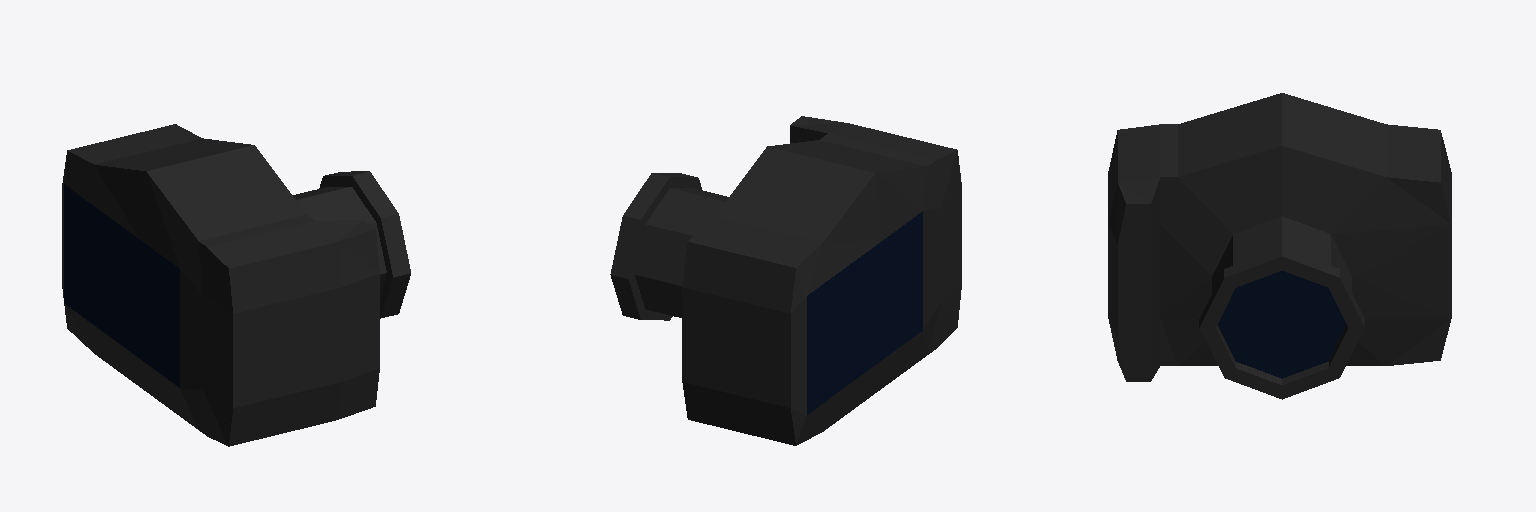
The model's file is photo.obj.
3 views of the same model, side by side, from view 1: azimuth 30°, elevation 25°; view 2: azimuth 150°, elevation 25°; view 3: azimuth 270°, elevation 25° (orthographic).
Parts seen in each view (by area): view 1: Cube; view 2: Cube; view 3: Cube.
Part boxes in pixels (x1,y1,x2,y2): Cube: (62, 124, 410, 446); Cube: (610, 116, 961, 445); Cube: (1108, 93, 1451, 399).
Bounding box in the file's own units: 1.07 × 0.9804 × 1.38.